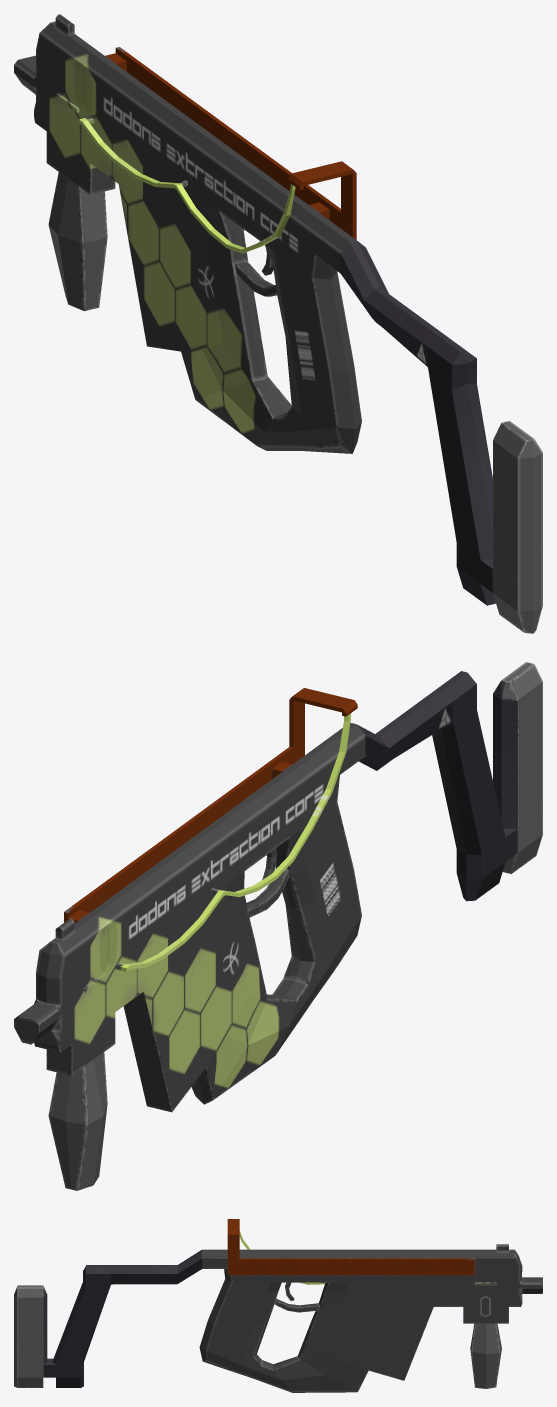
The model's file is vectorglb.glb.
The picture shows the model from 3 angles, top to bottom: view 1: azimuth 30°, elevation 25°; view 2: azimuth 150°, elevation 25°; view 3: azimuth 270°, elevation 25°; orthographic projection. The views are drawn at different scales.
Visible parts, largest first — view 1: Cube; view 2: Cube; view 3: Cube.
Boxes of the visible parts, box(x1,y1,x2,y2) form: Cube: box(14, 14, 542, 633); Cube: box(14, 662, 542, 1190); Cube: box(14, 1219, 542, 1392).
Size of the model in its own units: 0.2977 by 1.57 by 4.49.
1 material, 1 textured.
